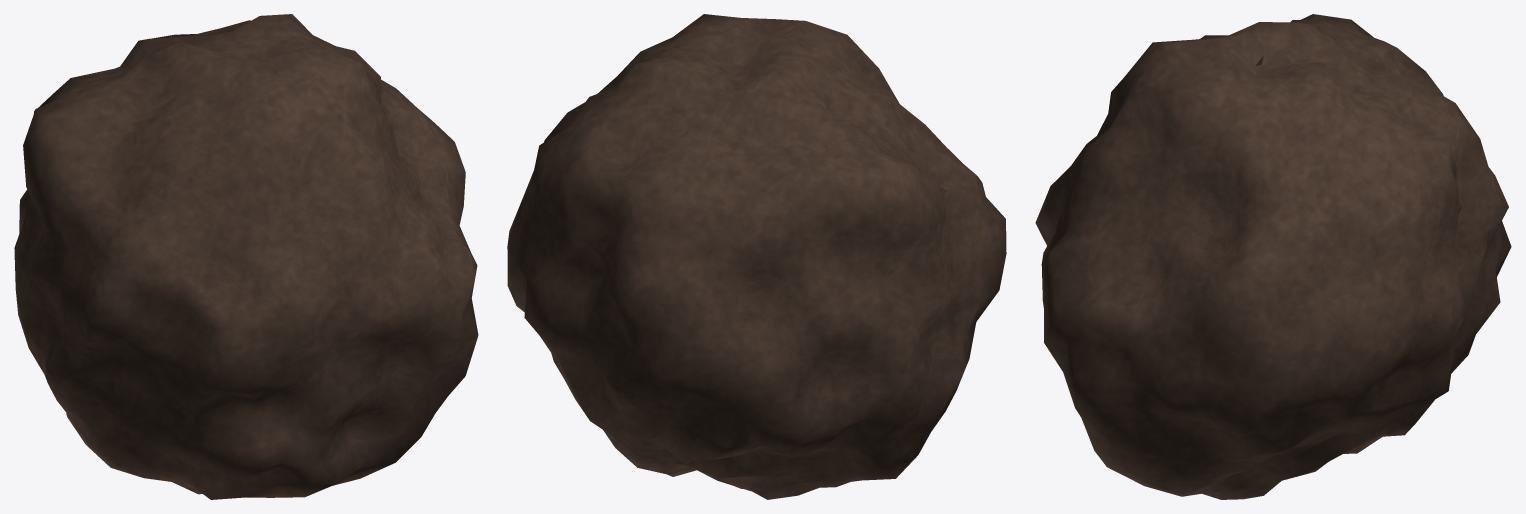
File: asteroid3.fbx
3 renders of one model, left to right at view 1: azimuth 30°, elevation 25°; view 2: azimuth 150°, elevation 25°; view 3: azimuth 270°, elevation 25°, orthographic. The views are drawn at different scales.
Visible parts, largest first — view 1: Icosphere; view 2: Icosphere; view 3: Icosphere.
Boxes of the visible parts, <box> form: Icosphere: <box>14,14,478,499</box>; Icosphere: <box>507,14,1006,499</box>; Icosphere: <box>1035,14,1511,499</box>.
Bounding box in the file's own units: 1.99 × 2.04 × 1.97.
1 material, 1 textured.
